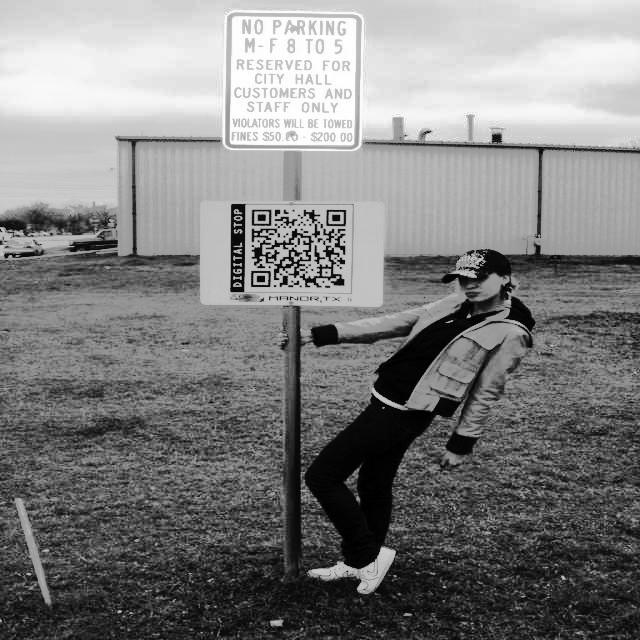qr_code: (251, 210, 346, 288)
